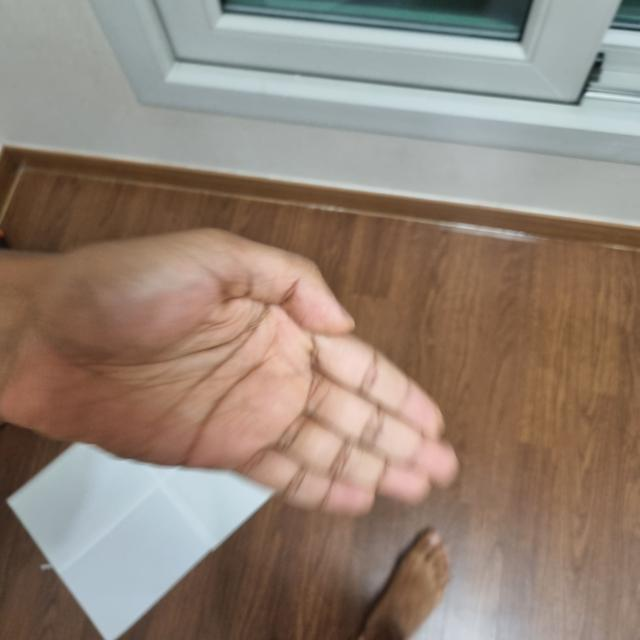Paper: (8, 234, 452, 512)
